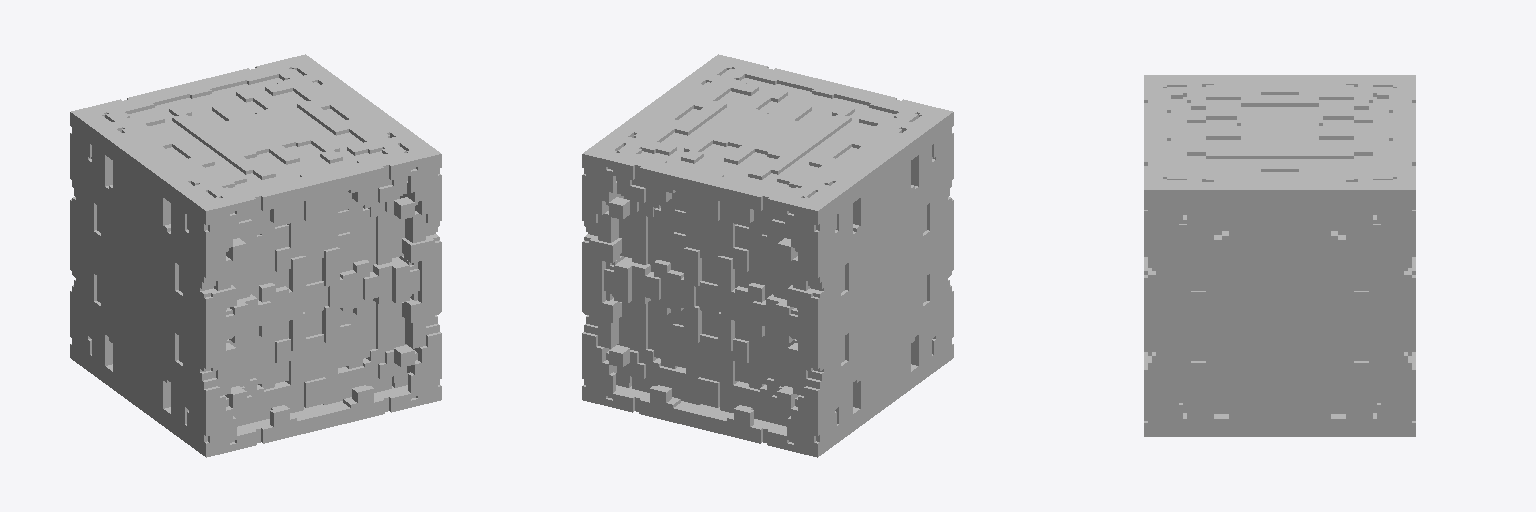
File: crate.obj
The picture shows the model from 3 angles: view 1: azimuth 30°, elevation 25°; view 2: azimuth 150°, elevation 25°; view 3: azimuth 270°, elevation 25°; orthographic projection.
Parts seen in each view (by area): view 1: object 1; view 2: object 1; view 3: object 1.
Boxes of the visible parts, x1,y1,x2,y2 form: object 1: [70, 54, 441, 457]; object 1: [582, 54, 953, 457]; object 1: [1144, 75, 1415, 436].
Bounding box in the file's own units: 7 × 7 × 7.